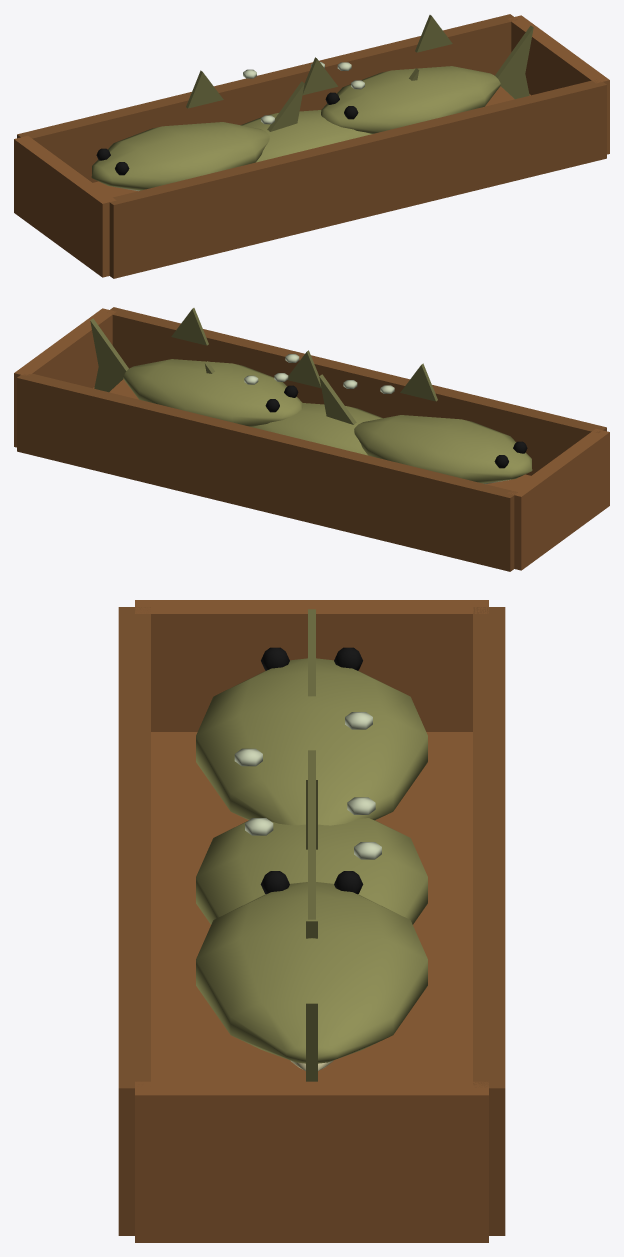
Rendered from Fish_Crucian.fbx.
3 views of the same model, one above another, from view 1: azimuth 30°, elevation 25°; view 2: azimuth 150°, elevation 25°; view 3: azimuth 270°, elevation 25° (orthographic). The views are drawn at different scales.
Visible parts, largest first — view 1: Fish_Crucian__Stack, Fish_Crucian, Fish_Crucian__Rotten; view 2: Fish_Crucian__Stack, Fish_Crucian, Fish_Crucian__Rotten; view 3: Fish_Crucian__Stack, Fish_Crucian, Fish_Crucian__Rotten.
Boxes of the visible parts, x1,y1,x2,y2 form: Fish_Crucian__Stack: (14,14,609,278); Fish_Crucian: (241,57,419,162); Fish_Crucian__Rotten: (243,62,364,124); Fish_Crucian__Stack: (14,307,609,571); Fish_Crucian: (204,350,382,455); Fish_Crucian__Rotten: (244,354,394,393); Fish_Crucian__Stack: (118,600,505,1242); Fish_Crucian: (196,750,427,938); Fish_Crucian__Rotten: (234,712,381,859).
Size of the model in its own units: 0.288 by 0.0755 by 0.0951.
